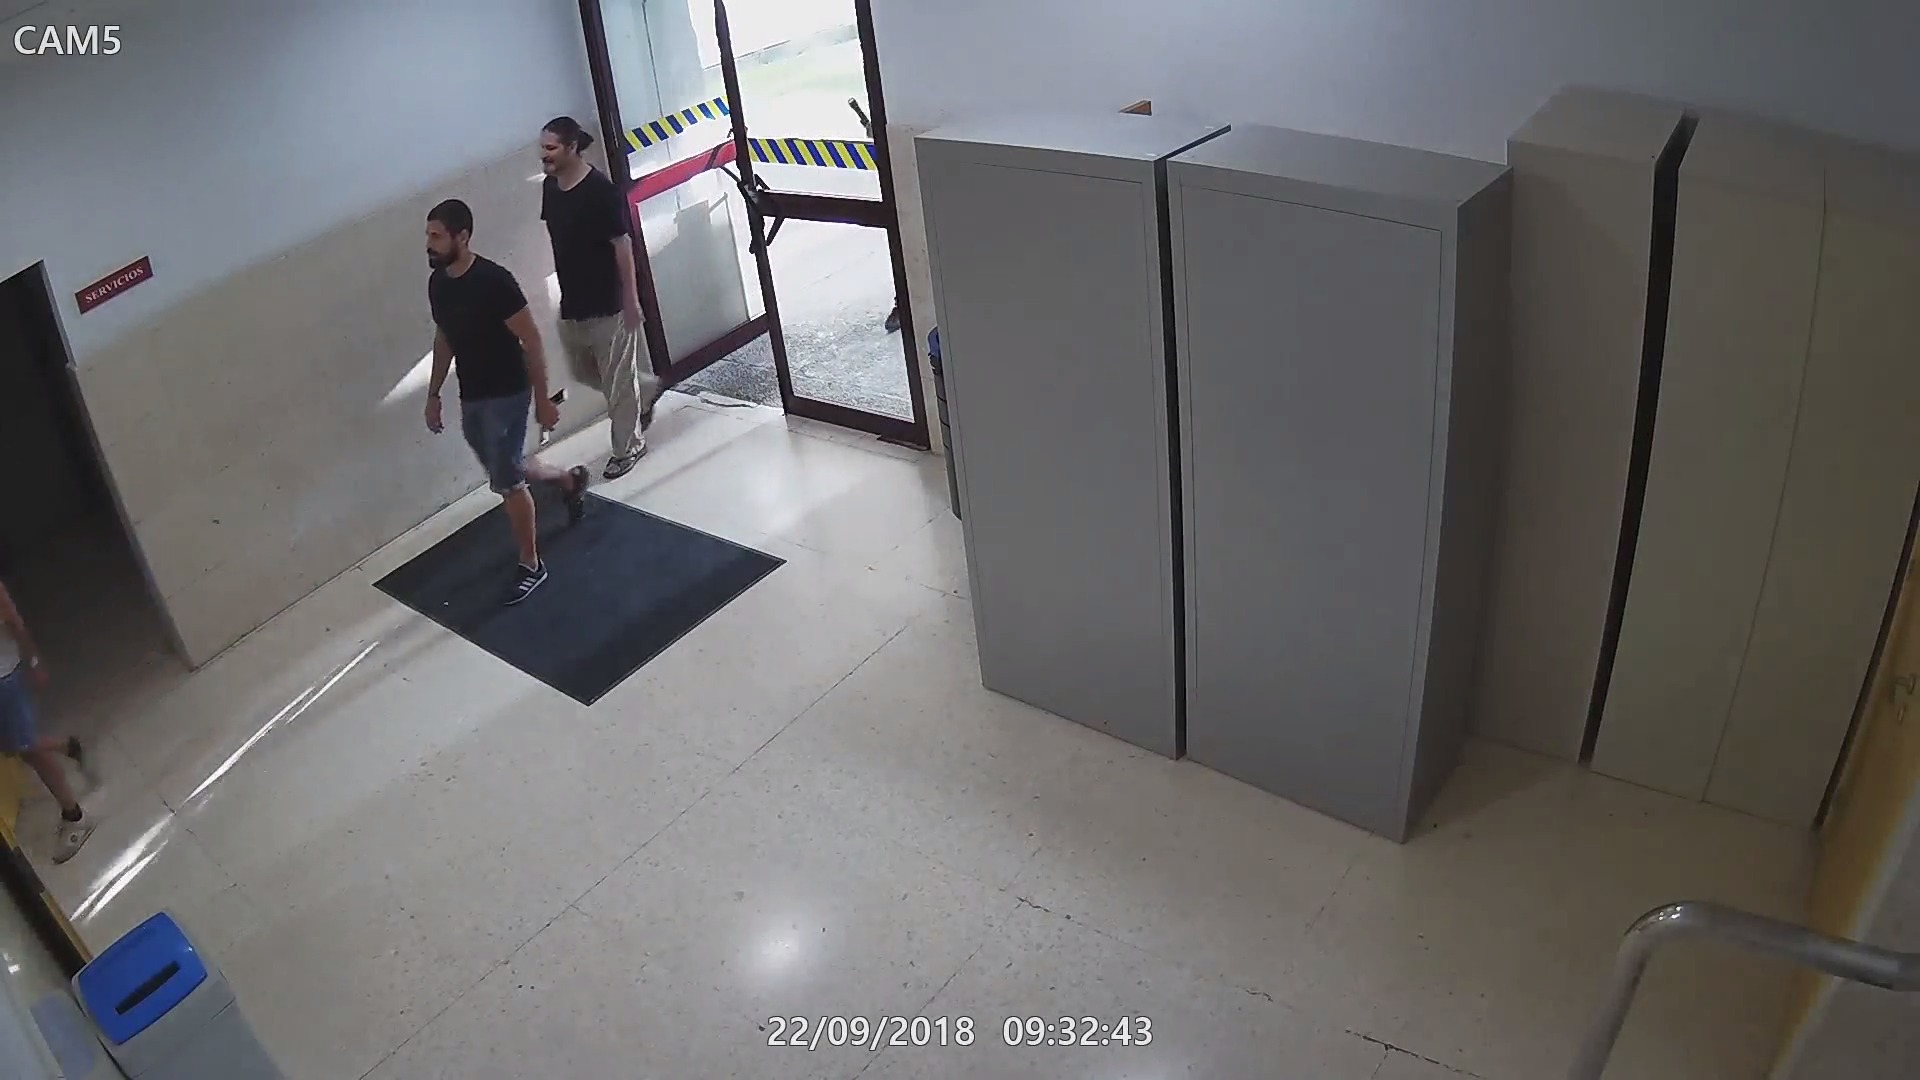Handgun: (538, 385, 575, 450)
